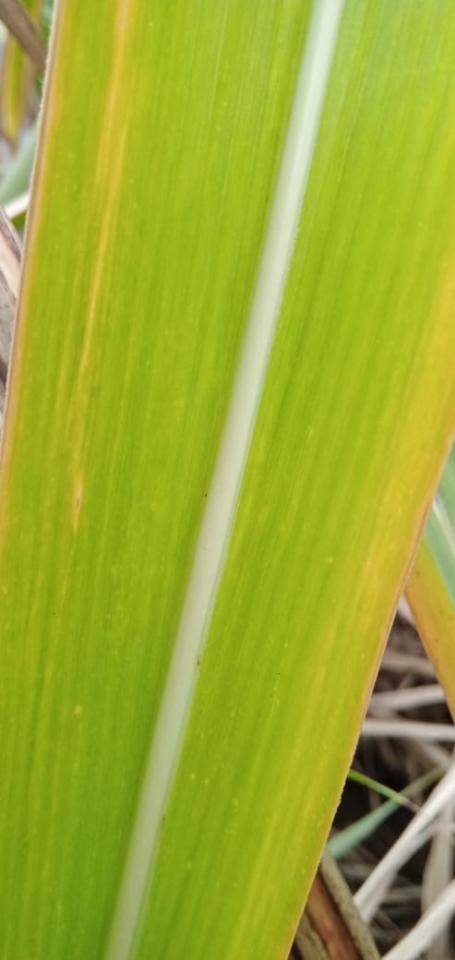Yellow: (331, 413, 454, 824), (0, 0, 64, 494), (81, 126, 123, 369), (404, 555, 454, 720), (105, 0, 130, 143), (74, 487, 82, 519)
